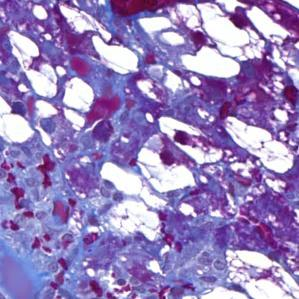ballooning: (173, 2, 268, 82), (137, 114, 225, 195)
